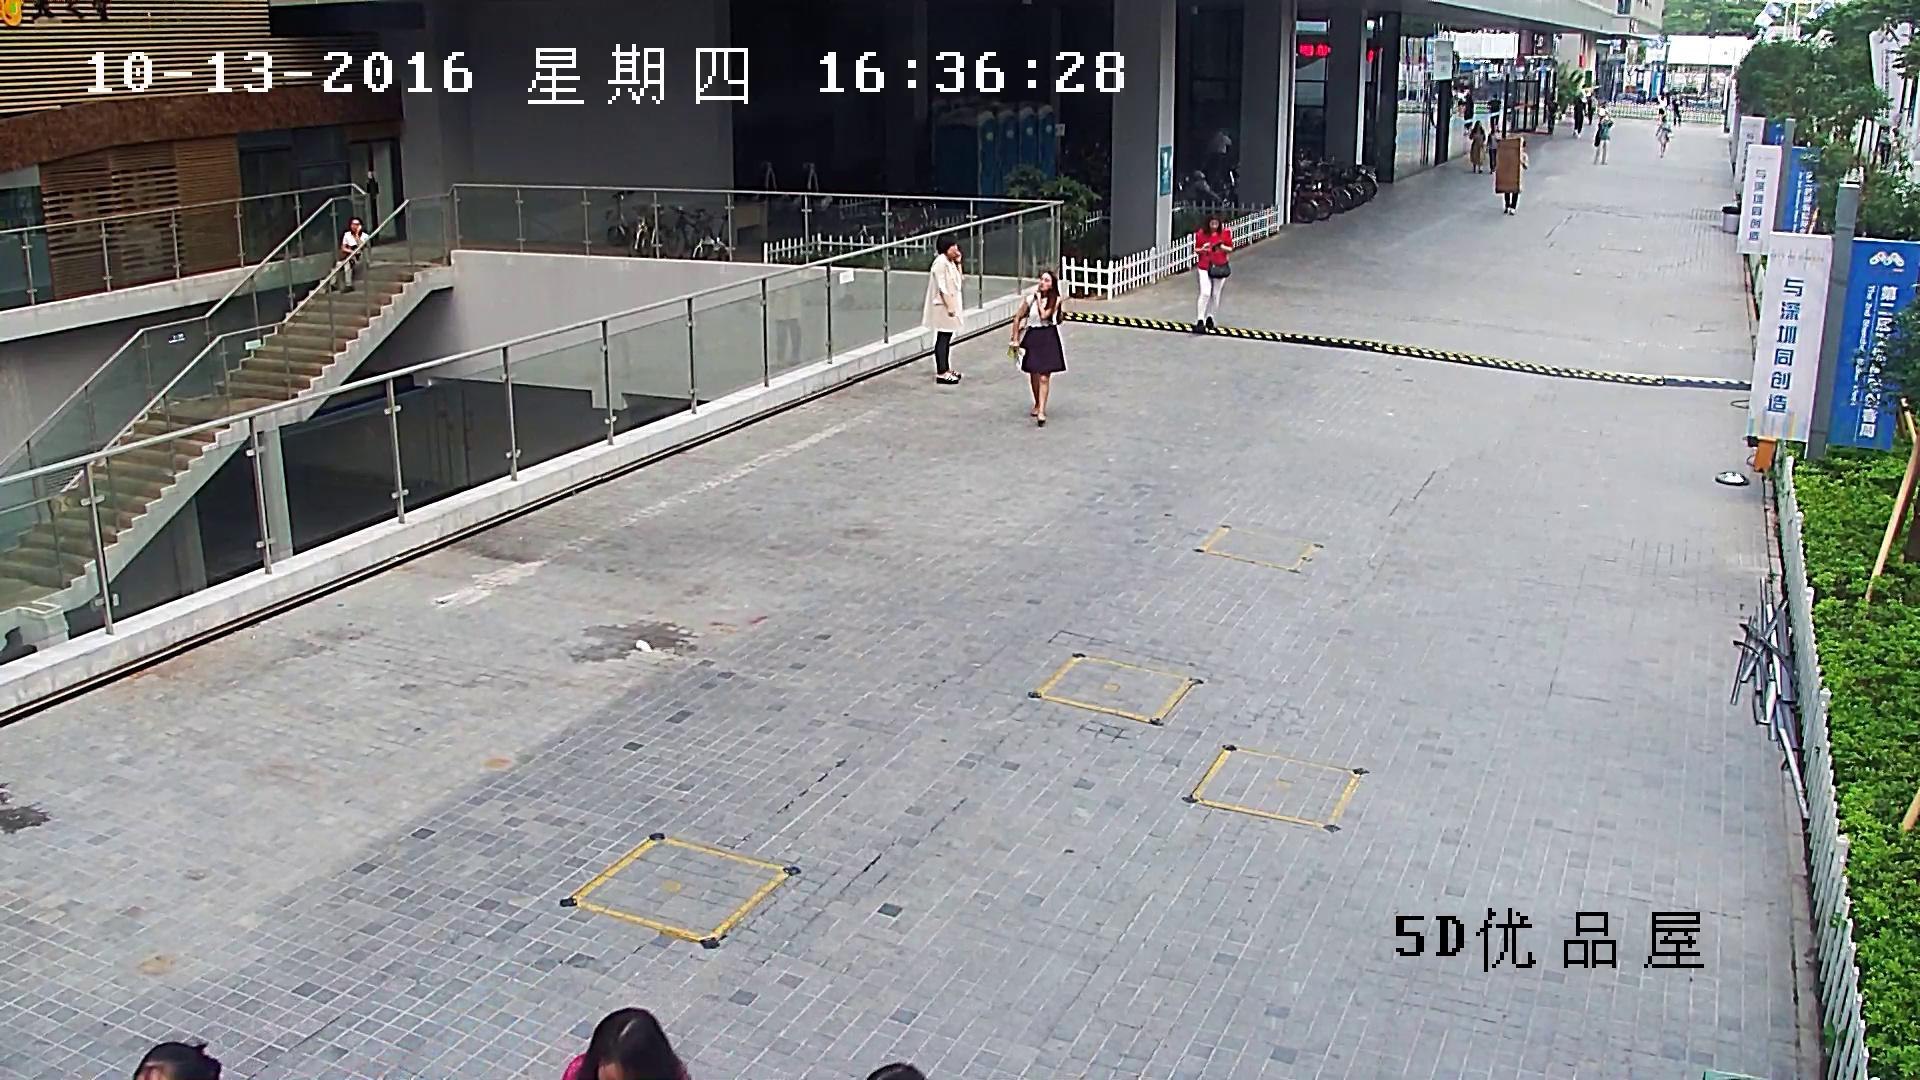person: (1007, 270, 1066, 424), (922, 237, 961, 385), (1194, 216, 1232, 331), (769, 269, 805, 367), (325, 216, 368, 294), (1493, 136, 1528, 216), (1503, 136, 1528, 216), (1211, 126, 1231, 186), (1594, 115, 1613, 166), (1655, 107, 1672, 158), (1469, 120, 1485, 173), (1484, 123, 1497, 173), (1487, 94, 1501, 134), (1573, 97, 1585, 135), (1671, 94, 1681, 125), (1587, 94, 1595, 125)
